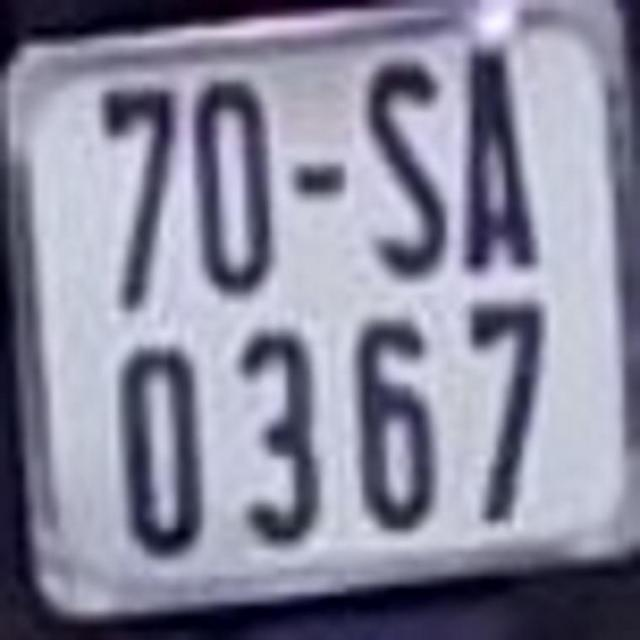0: (117, 338, 209, 559), (197, 87, 280, 290)
3: (234, 318, 322, 540)
6: (359, 319, 437, 532)
7: (100, 88, 184, 306), (468, 294, 543, 532)
A: (465, 45, 545, 278)
S: (362, 58, 452, 281)
